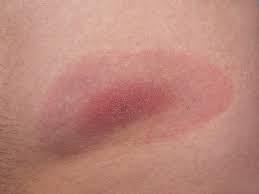Tick: (27, 31, 236, 157)
